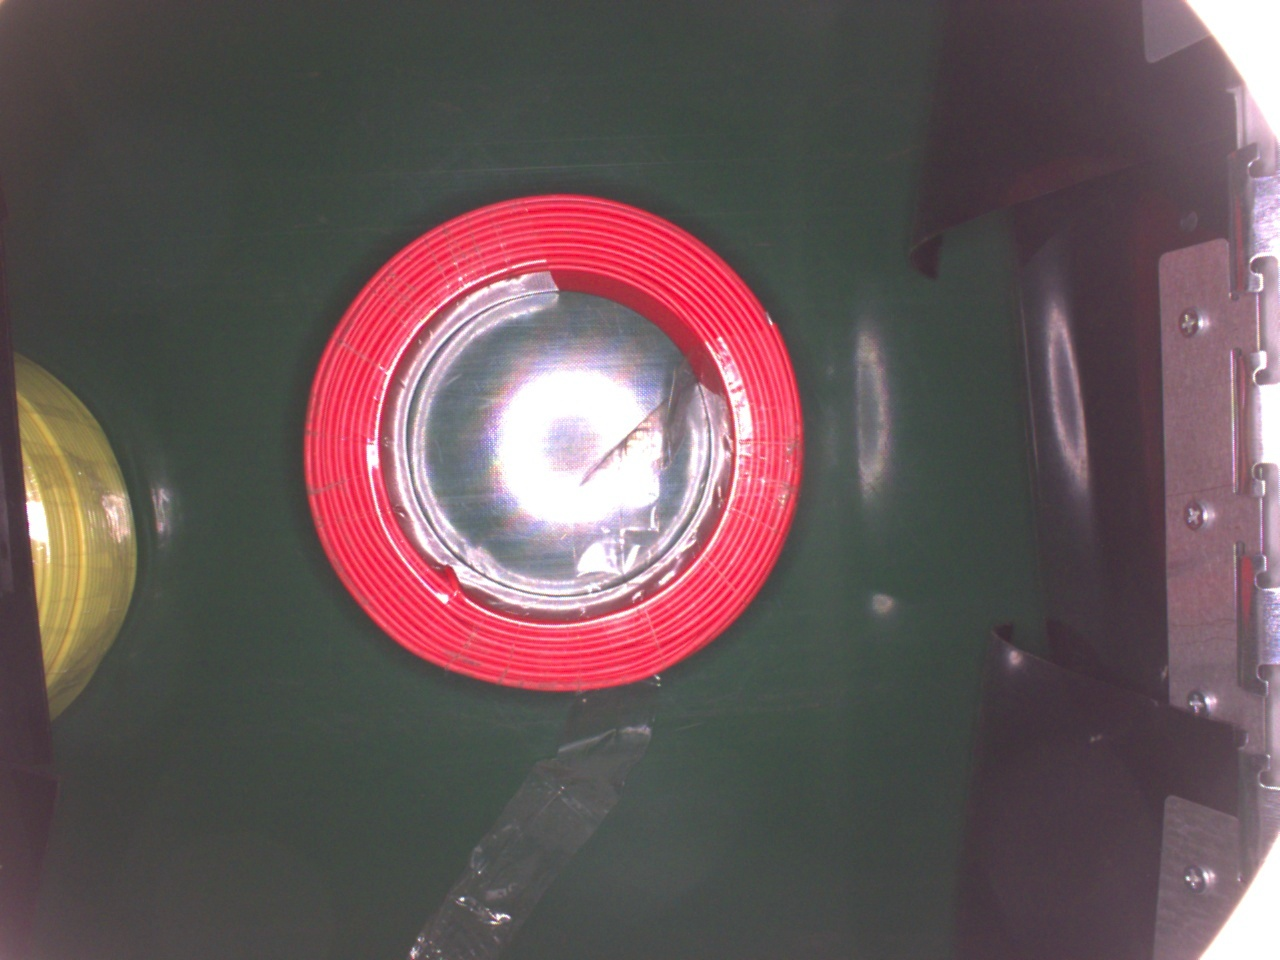red: (300, 192, 812, 692)
yellow: (10, 350, 141, 722)
